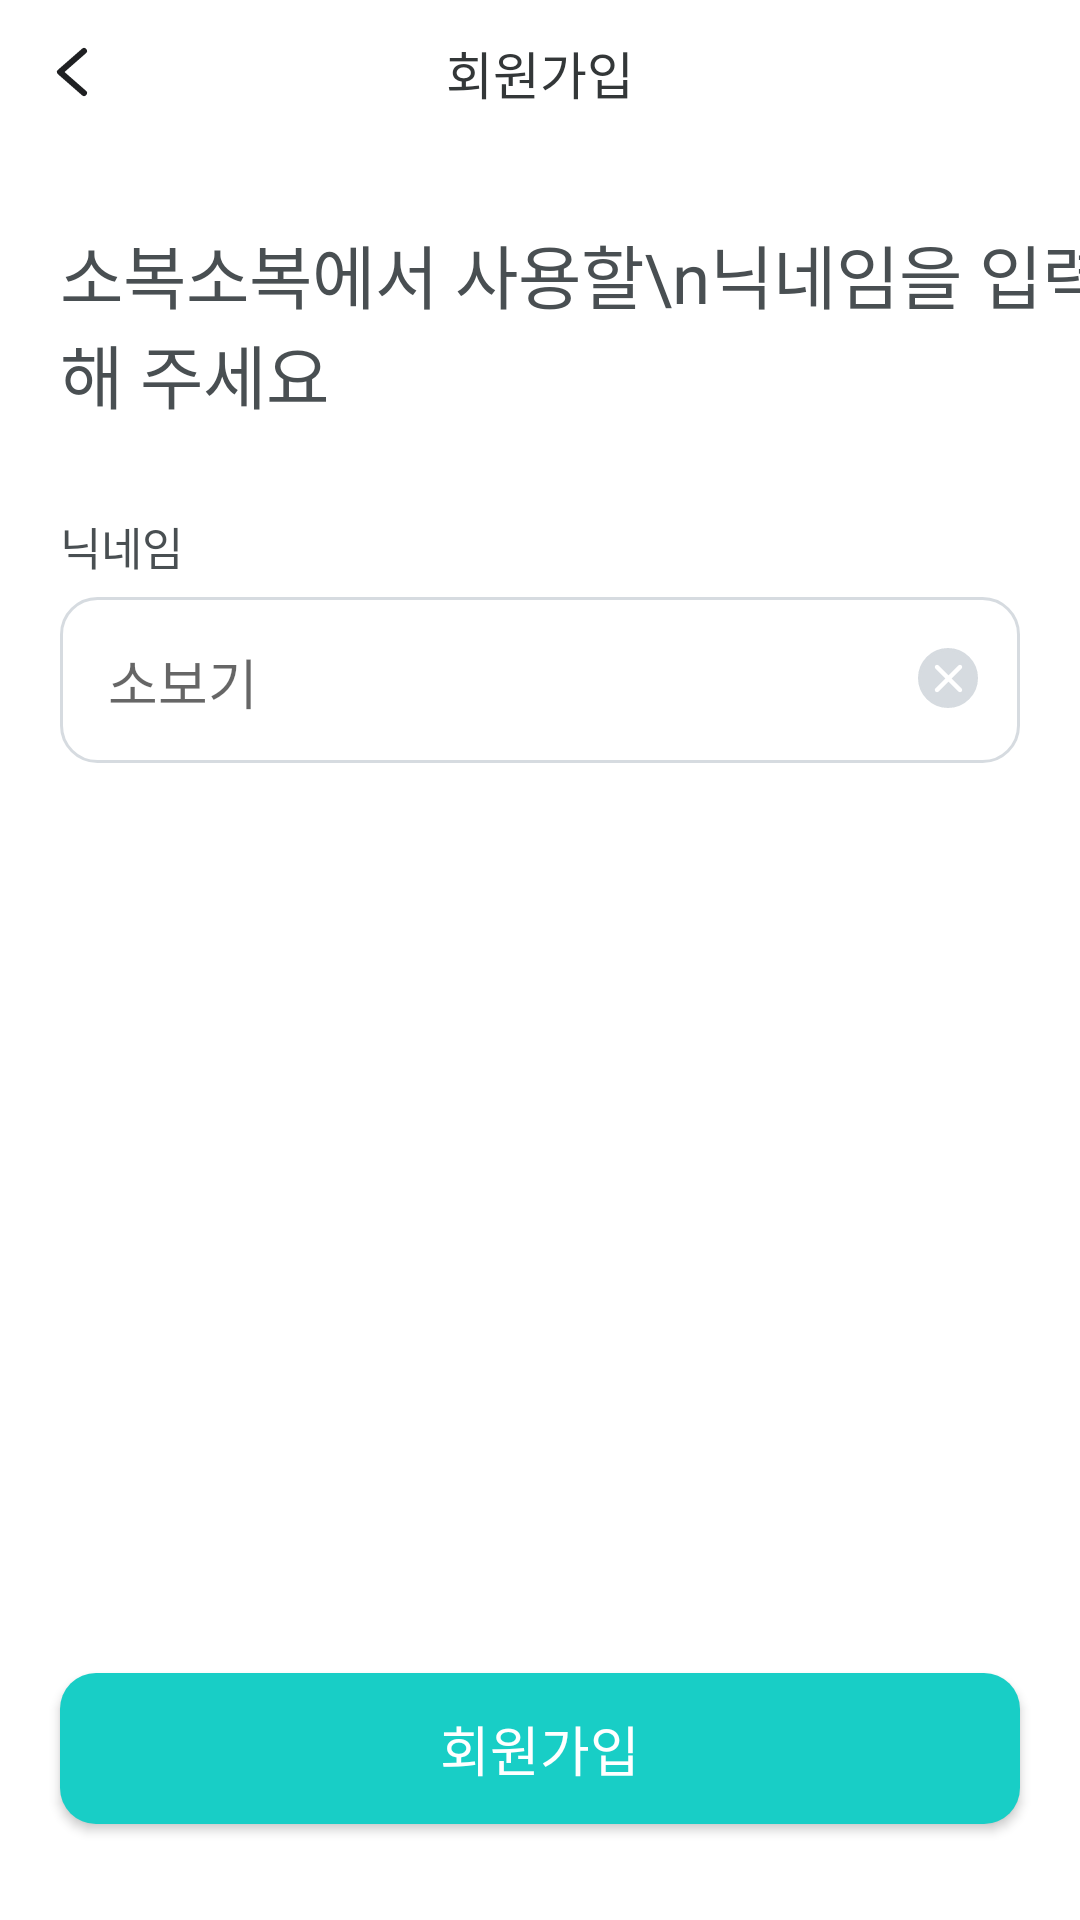

Screen size 1080px×1920px. Icon name, then its box in pixels as box=[x1, y1, x2, y2]:
back: box=[56, 48, 87, 96]
text close: box=[918, 648, 978, 708]
